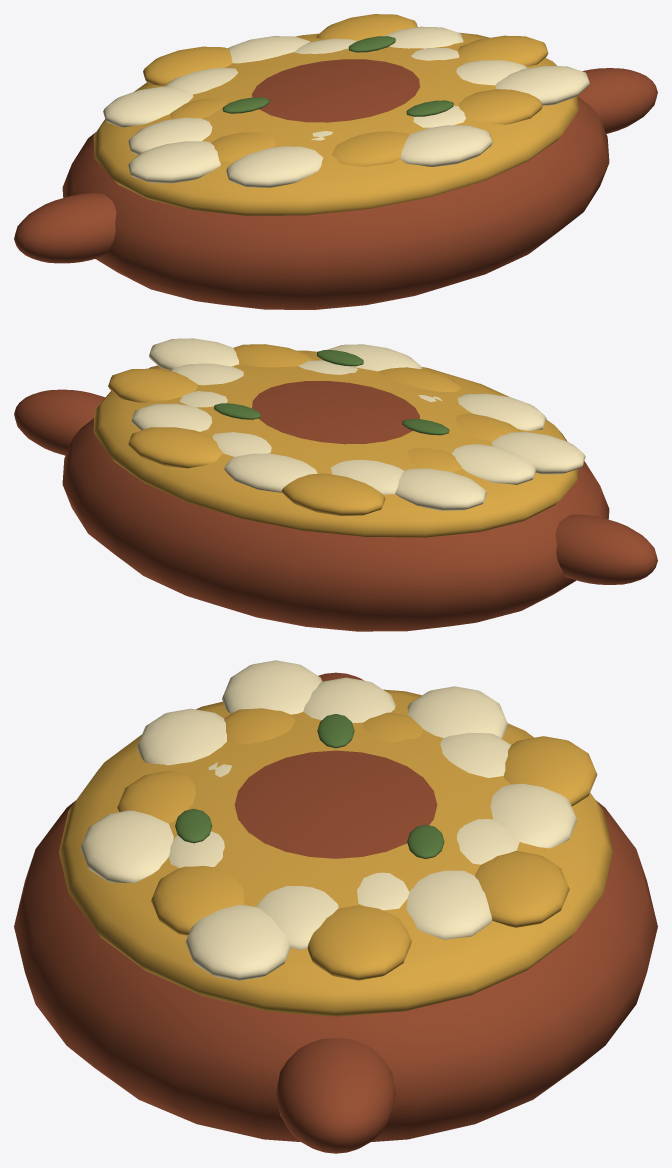
Rendered from food_pastel_runtime.glb.
3 views of the same model, one above another, from view 1: azimuth 30°, elevation 25°; view 2: azimuth 150°, elevation 25°; view 3: azimuth 270°, elevation 25° (orthographic). The views are drawn at different scales.
Parts seen in each view (by area): view 1: Terracotta casserole, Cooked filling, Handle, Handle.001, Potato gratin.020, Potato gratin.025, Potato gratin.023, Potato gratin.026, Potato gratin.022, Potato gratin.018, Potato gratin.027, Potato gratin.015 (+15 smaller); view 2: Terracotta casserole, Cooked filling, Handle, Handle.001, Potato gratin.027, Potato gratin.022, Potato gratin.024, Potato gratin.025, Potato gratin.019, Potato gratin.017, Potato gratin.021, Potato gratin.026 (+15 smaller); view 3: Terracotta casserole, Cooked filling, Handle.001, Potato gratin.026, Potato gratin.021, Potato gratin.024, Potato gratin.023, Potato gratin.016, Potato gratin.027, Potato gratin.018, Potato gratin.019, Potato gratin.025 (+14 smaller).
Boxes of the visible parts, x1,y1,x2,y2 form: Terracotta casserole: [62, 59, 609, 309]; Cooked filling: [93, 32, 578, 215]; Handle: [14, 193, 116, 263]; Handle.001: [578, 68, 657, 133]; Potato gratin.020: [226, 146, 323, 187]; Potato gratin.025: [128, 141, 220, 183]; Potato gratin.023: [400, 125, 492, 166]; Potato gratin.026: [495, 65, 589, 105]; Potato gratin.022: [103, 86, 193, 127]; Potato gratin.018: [458, 89, 542, 124]; Potato gratin.027: [143, 46, 232, 85]; Potato gratin.015: [331, 131, 409, 166]; Terracotta casserole: [62, 381, 609, 631]; Cooked filling: [93, 350, 577, 537]; Handle: [555, 514, 657, 584]; Handle.001: [14, 389, 104, 455]; Potato gratin.027: [281, 473, 385, 516]; Potato gratin.022: [395, 468, 486, 510]; Potato gratin.024: [128, 427, 222, 468]; Potato gratin.025: [491, 432, 585, 474]; Potato gratin.019: [224, 453, 317, 492]; Potato gratin.017: [451, 444, 536, 484]; Potato gratin.021: [108, 368, 198, 402]; Potato gratin.026: [149, 338, 239, 369]; Terracotta casserole: [14, 750, 657, 1141]; Cooked filling: [59, 689, 612, 1016]; Handle.001: [276, 1038, 395, 1153]; Potato gratin.026: [185, 905, 290, 980]; Potato gratin.021: [307, 905, 411, 980]; Potato gratin.024: [474, 851, 569, 927]; Potato gratin.023: [80, 810, 173, 883]; Potato gratin.016: [406, 870, 492, 939]; Potato gratin.027: [503, 736, 597, 806]; Potato gratin.018: [151, 866, 243, 935]; Potato gratin.019: [490, 783, 577, 848]; Potato gratin.025: [222, 660, 322, 714].
Size of the model in its own units: 1.42 by 0.393 by 0.86.
